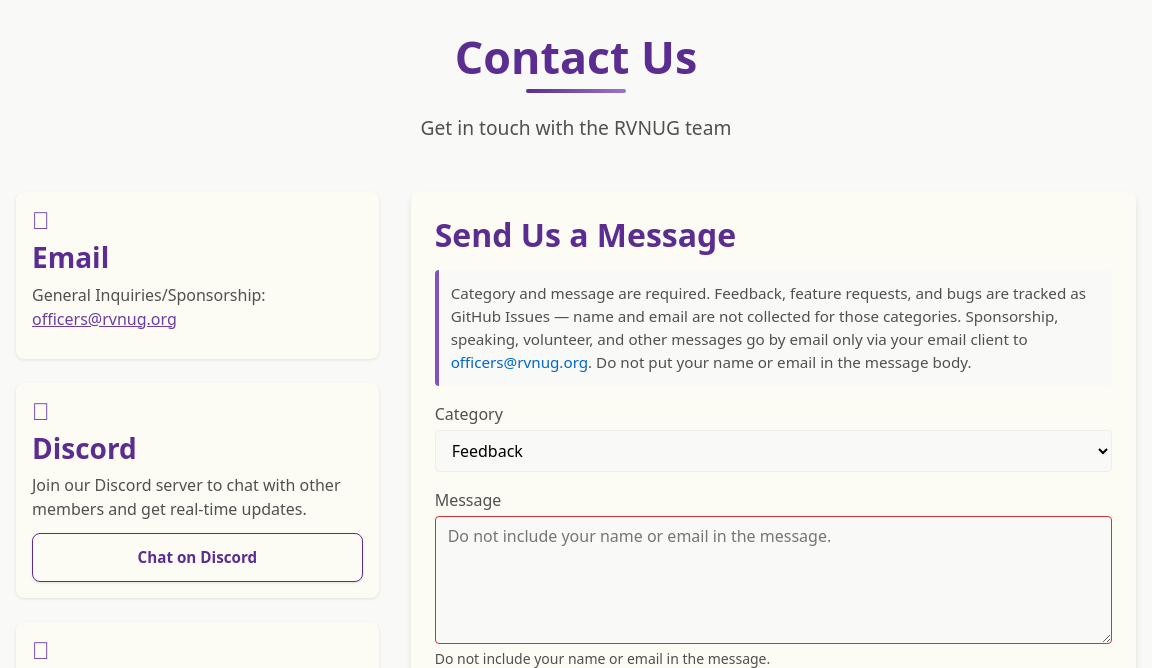
Scenario: ContactPage › shows submission errors and clears success after edits
Select "Feedback" in the dropdown labelled "Category" at (773, 451), box [435,430,1112,472]
Type "A sufficiently long bug report" into the text box labelled "Message" at (773, 580), box [435,516,1112,644]
Wait 1600 ms
(page scrolled)
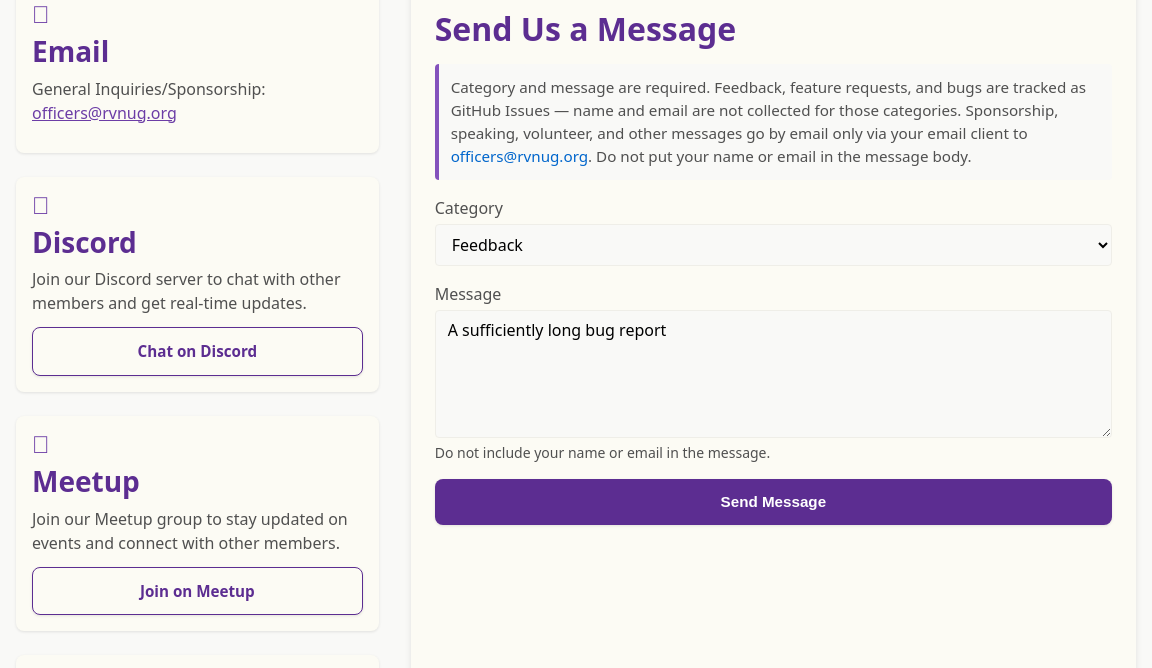
Submit the form "Send Message", box [435,196,1112,525]
Wait 1600 ms
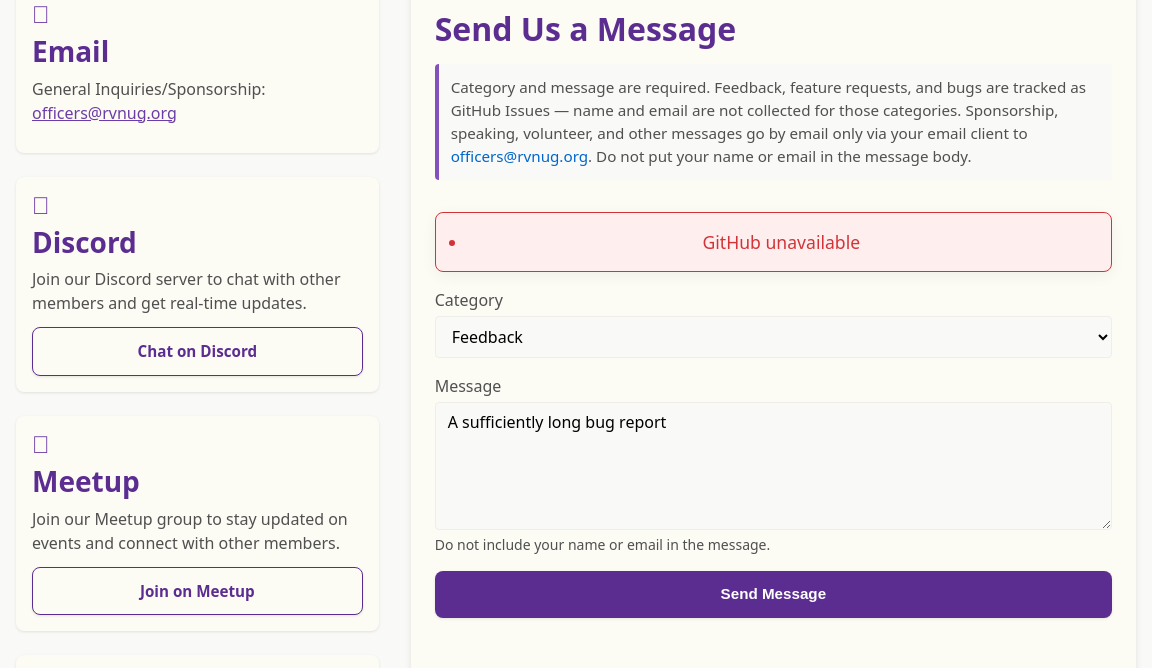
Expected: the message reads "GitHub unavailable", [702,230,860,254]
Submit the form "Send Message", box [435,288,1112,618]
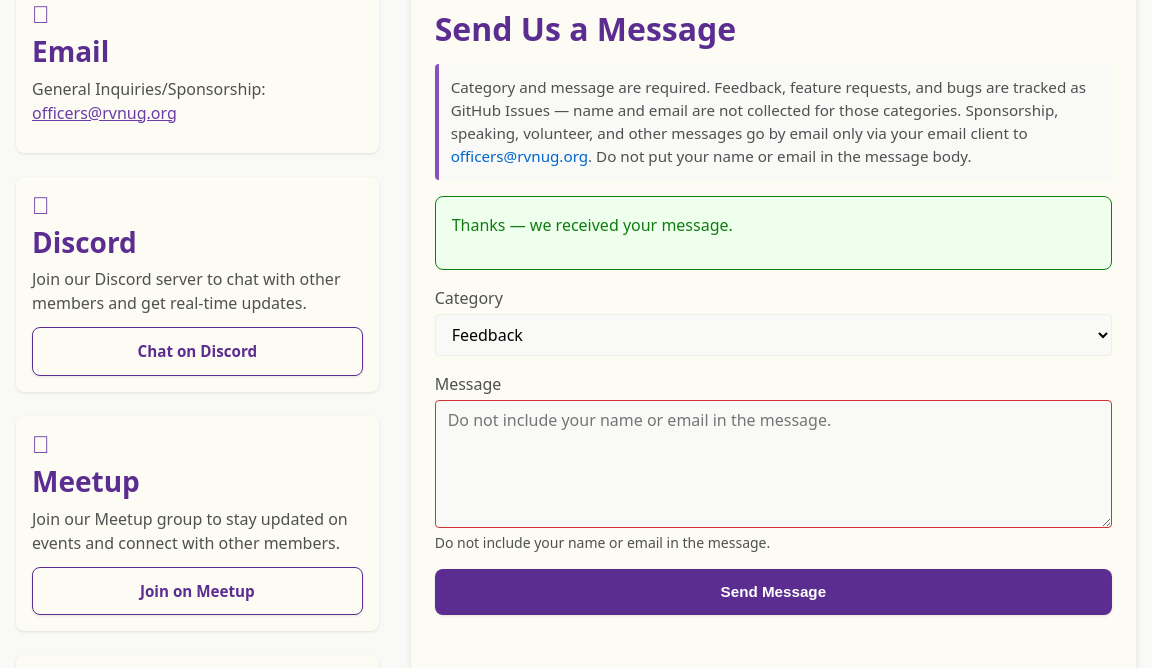
Expected: the message "Thanks — we received your message." is shown, [435,196,1112,270]
Type "Changed the message" into the text box labelled "Message" at (773, 464), box [435,400,1112,528]
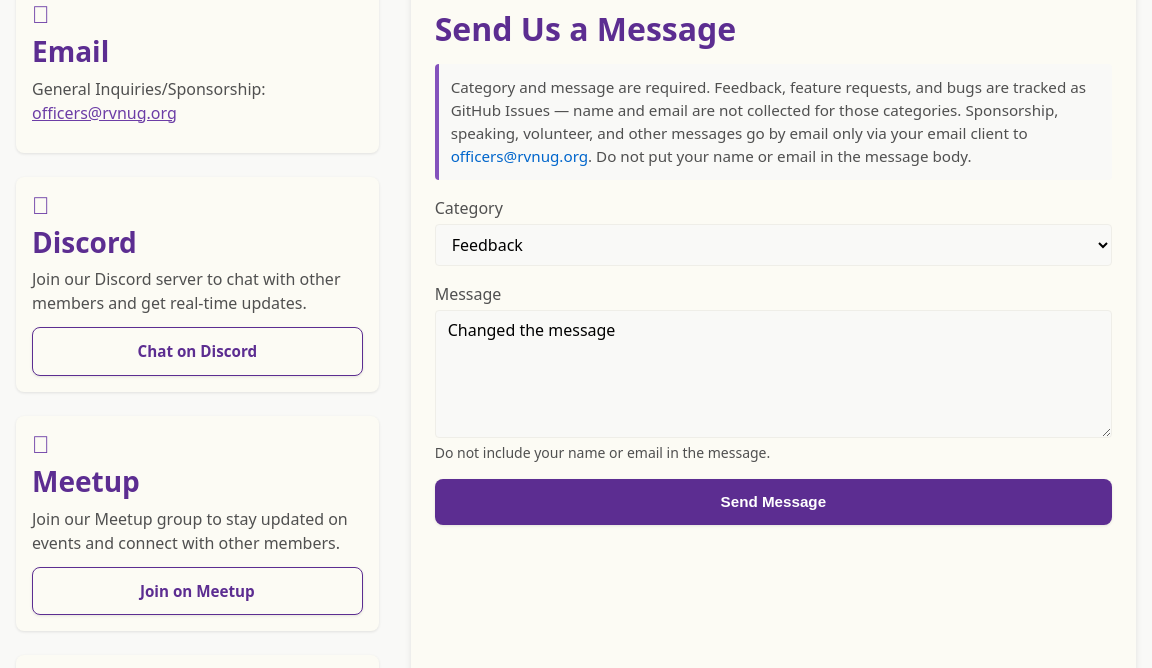
Expected: the message "Thanks — we received your message." is gone
